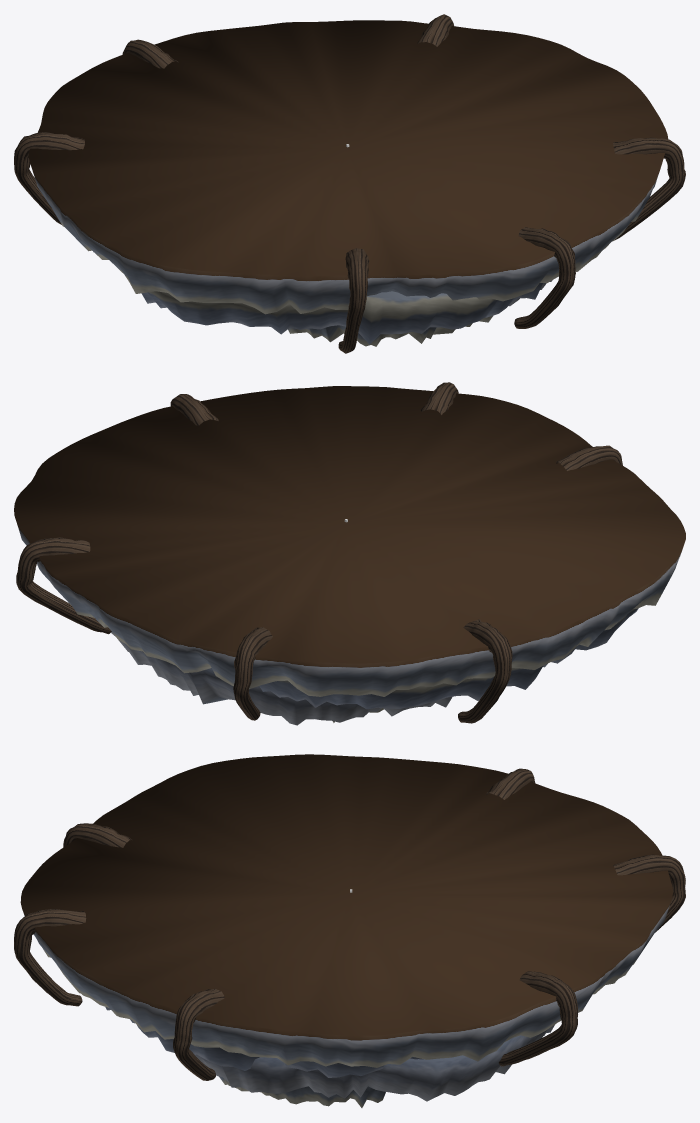
Rendered from BeginnerIsle_Island.fbx.
The picture shows the model from 3 angles, top to bottom: view 1: azimuth 30°, elevation 25°; view 2: azimuth 150°, elevation 25°; view 3: azimuth 270°, elevation 25°; orthographic projection. The views are drawn at different scales.
Parts seen in each view (by area): view 1: BI_Slab0, BI_Slab1, BI_GripRoot0, BI_GripRoot1, BI_GripRoot3, BI_GripRoot2, BI_Slab3, BI_GripRoot4, BI_GripRoot5; view 2: BI_Slab0, BI_Slab2, BI_Slab1, BI_GripRoot5, BI_GripRoot3, BI_GripRoot4, BI_GripRoot2, BI_GripRoot0, BI_GripRoot1; view 3: BI_Slab0, BI_Slab2, BI_GripRoot1, BI_GripRoot5, BI_Slab1, BI_GripRoot0, BI_GripRoot4, BI_Slab3, BI_GripRoot2, BI_GripRoot3.
Boxes of the visible parts, left/top/right/bottom form: BI_Slab0: left=28, top=20, right=668, bottom=314; BI_Slab1: left=93, top=251, right=552, bottom=344; BI_GripRoot0: left=613, top=137, right=685, bottom=240; BI_GripRoot1: left=514, top=227, right=575, bottom=328; BI_GripRoot3: left=14, top=132, right=84, bottom=224; BI_GripRoot2: left=338, top=248, right=369, bottom=353; BI_Slab3: left=288, top=315, right=493, bottom=346; BI_GripRoot4: left=122, top=39, right=178, bottom=68; BI_GripRoot5: left=417, top=14, right=453, bottom=46; BI_Slab0: left=14, top=386, right=685, bottom=696; BI_Slab2: left=111, top=632, right=452, bottom=725; BI_Slab1: left=259, top=608, right=638, bottom=709; BI_GripRoot5: left=16, top=537, right=111, bottom=634; BI_GripRoot3: left=458, top=619, right=512, bottom=723; BI_GripRoot4: left=233, top=627, right=272, bottom=720; BI_GripRoot2: left=556, top=445, right=622, bottom=470; BI_GripRoot0: left=170, top=394, right=218, bottom=425; BI_GripRoot1: left=420, top=382, right=458, bottom=414; BI_Slab0: left=20, top=754, right=673, bottom=1067; BI_Slab2: left=195, top=1025, right=554, bottom=1101; BI_GripRoot1: left=14, top=909, right=86, bottom=1006; BI_GripRoot5: left=498, top=971, right=577, bottom=1066; BI_Slab1: left=105, top=1007, right=423, bottom=1077; BI_GripRoot0: left=173, top=988, right=224, bottom=1080; BI_GripRoot4: left=613, top=854, right=685, bottom=932; BI_Slab3: left=219, top=1076, right=385, bottom=1107; BI_GripRoot2: left=63, top=823, right=132, bottom=847; BI_GripRoot3: left=486, top=768, right=535, bottom=799.
Bounding box in the file's own units: 277 × 90.45 × 280.
Materials: 1 (1 with a texture image).
